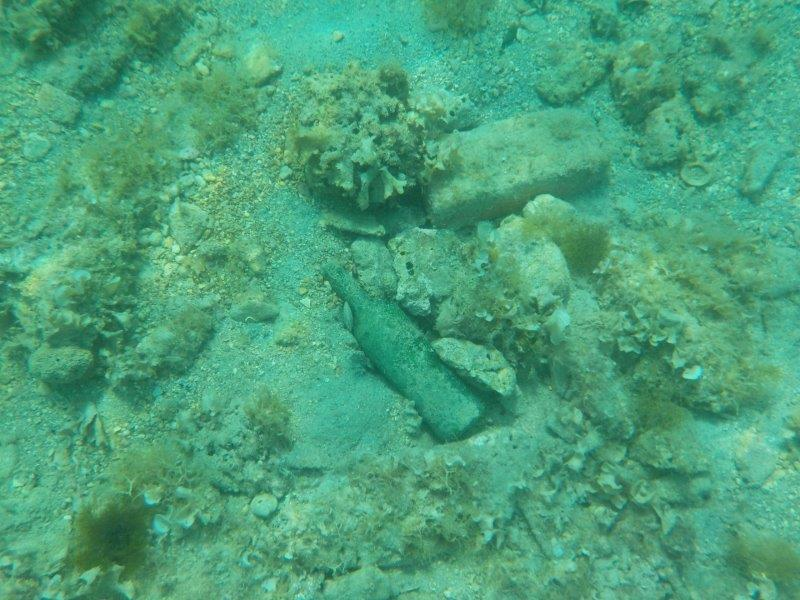bottle: (315, 258, 494, 444)
